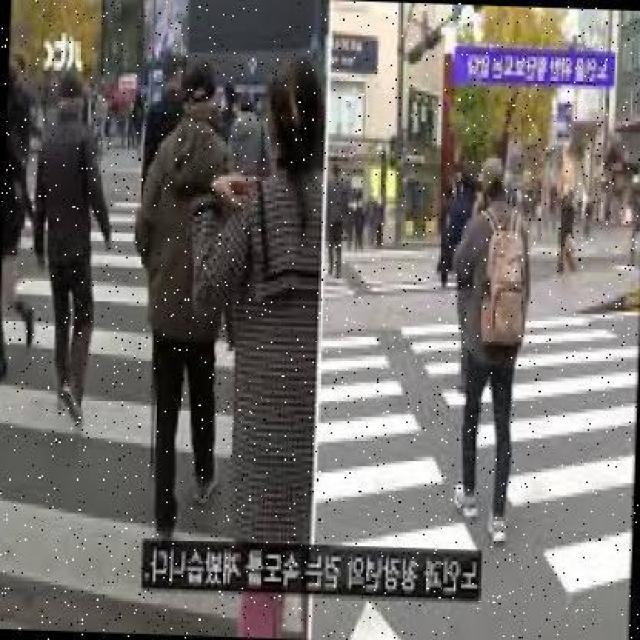Person: (182, 51, 322, 543), (126, 59, 234, 538), (444, 160, 531, 552), (27, 73, 118, 424)
